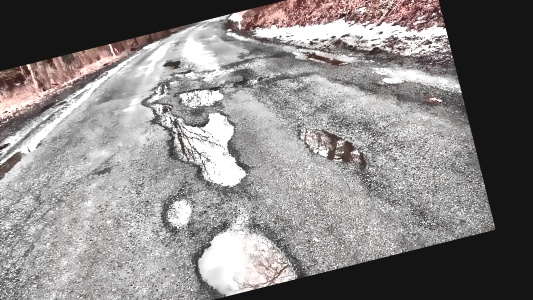pothole: (183, 209, 304, 300), (160, 107, 250, 200), (293, 111, 370, 184), (139, 77, 181, 129), (174, 80, 226, 113), (158, 192, 198, 234), (171, 66, 199, 81)
